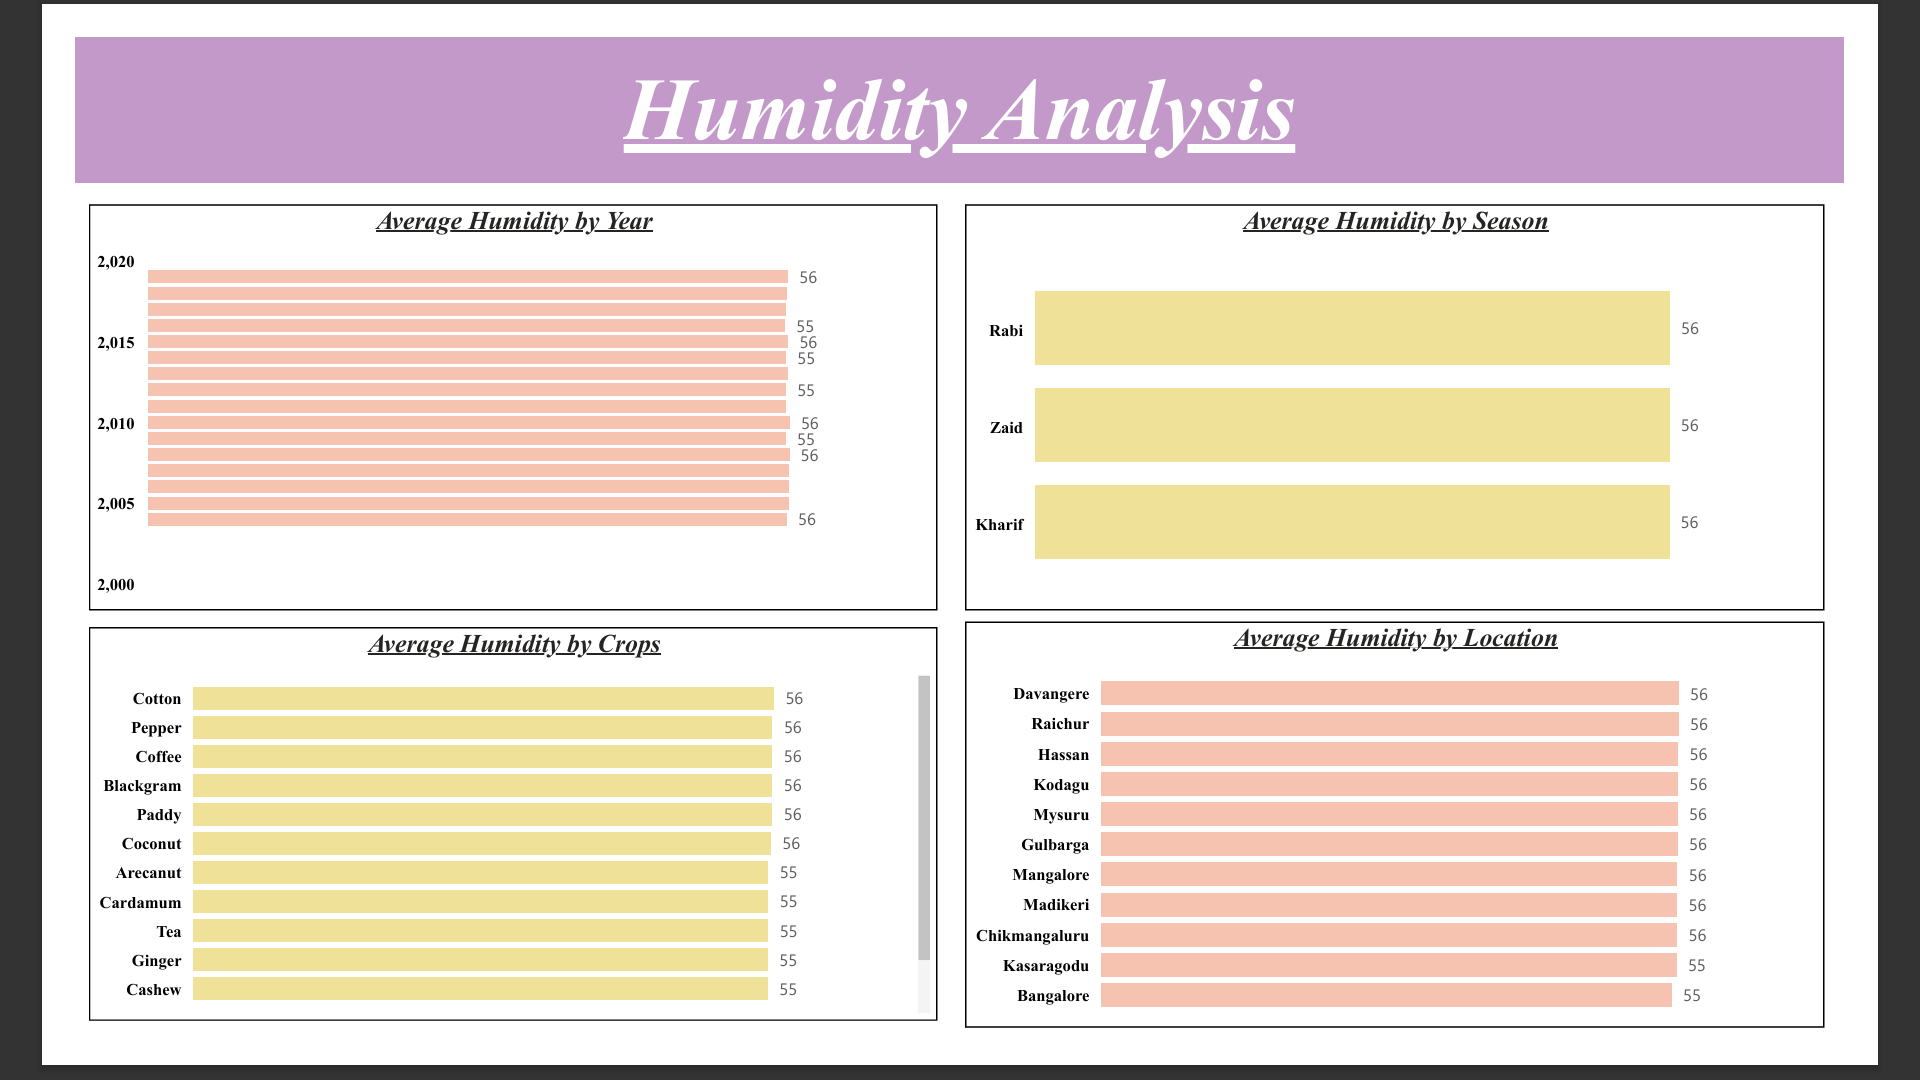

What the dashboard file says about the page in this screenshot:
{"tool":"powerbi","page":{"name":"Humidity Analysis","canvas":[1280,720],"ordinal":2},"visuals":[{"type":"shape","box":[0,0,1280.3,105.2],"z":0},{"type":"barChart","title":"Average Humidity by Year","fields":{"Category":["AGGRICULTURE.YEAR"],"Y":["Avg(AGGRICULTURE.HUMIDITY)"]},"box":[9.8,121.1,613.9,293.5],"z":1000},{"type":"barChart","title":"Average Humidity by Season","fields":{"Category":["AGGRICULTURE.SEASON"],"Y":["Avg(AGGRICULTURE.HUMIDITY)"]},"box":[644.4,121.1,621.2,293.5],"z":2000},{"type":"barChart","title":"Average Humidity by Crops","fields":{"Category":["AGGRICULTURE.CROPS"],"Y":["Avg(AGGRICULTURE.HUMIDITY)"]},"box":[9.8,426.8,613.9,284.9],"z":3000},{"type":"barChart","title":"Average Humidity by Location","fields":{"Category":["AGGRICULTURE.LOCATION"],"Y":["Avg(AGGRICULTURE.HUMIDITY)"]},"box":[644.4,423.1,621.2,293.5],"z":4000}]}

Visuals, with their boxes in screenshot pixels (x1, y1, x2, y2), scaled from the page's 1280x720 canvas onto the 1920x1080 screenshot:
shape: BBox(0, 0, 1919, 158)
"Average Humidity by Year" barChart: BBox(15, 182, 936, 622)
"Average Humidity by Season" barChart: BBox(967, 182, 1898, 622)
"Average Humidity by Crops" barChart: BBox(15, 640, 936, 1068)
"Average Humidity by Location" barChart: BBox(967, 635, 1898, 1075)
